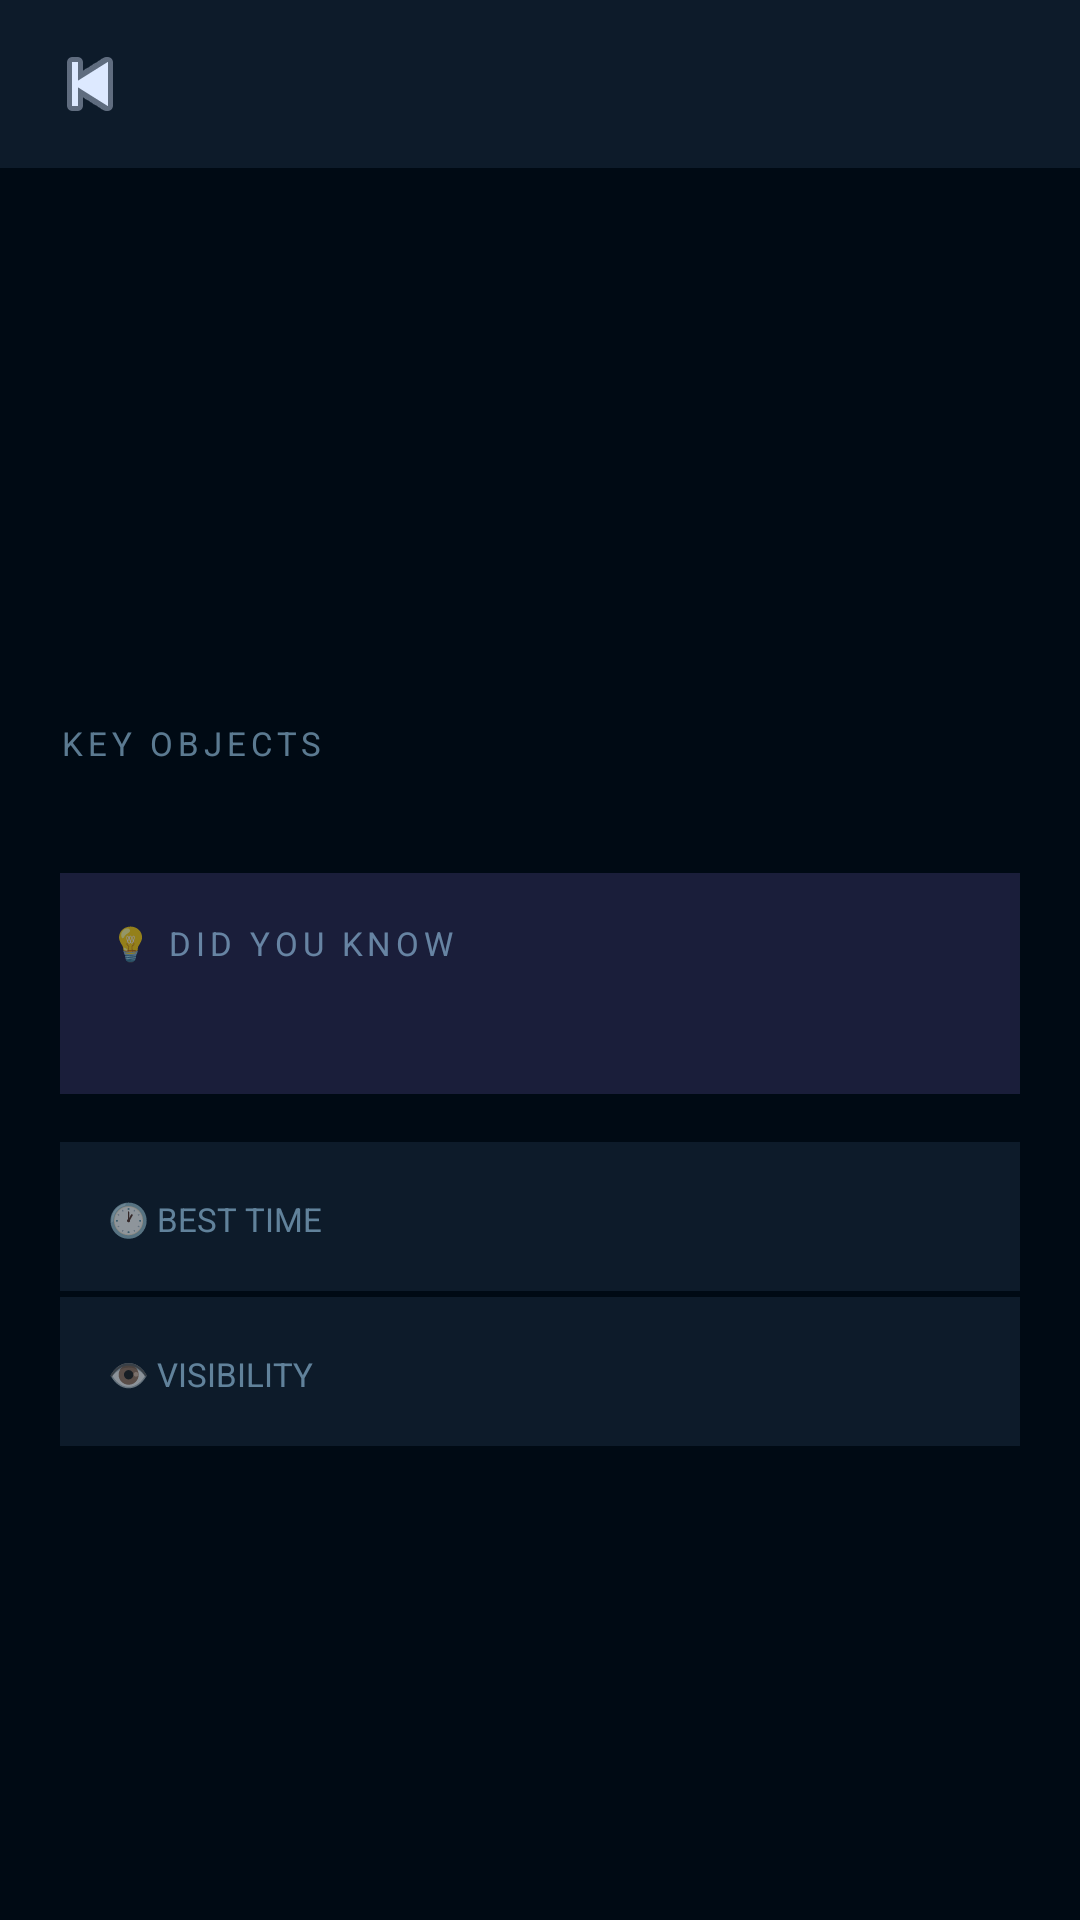

Screen size 1080px×1920px. Icon name, then its box in pixels as (x1, y1, x2, y2):
Back: (67, 57, 113, 111)
